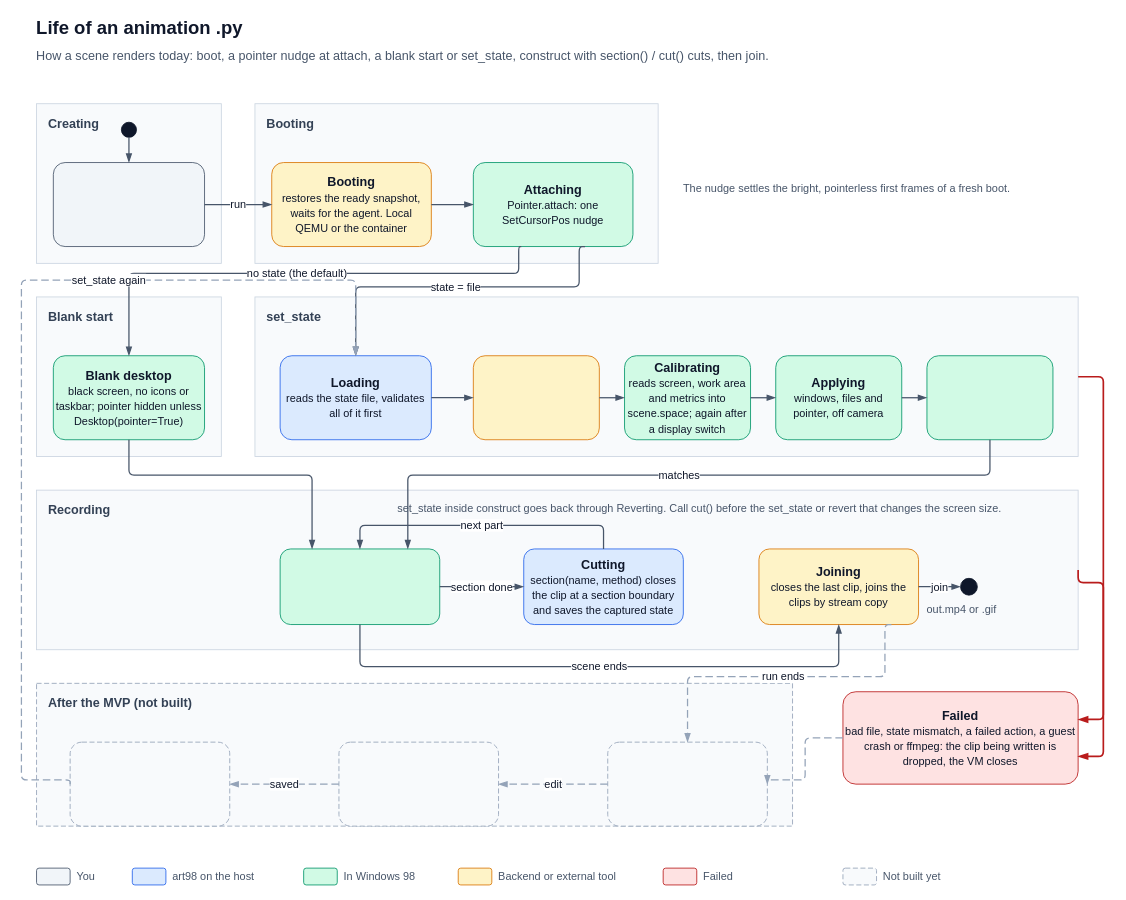
Image size: 1126x900. Some labels were removed from this diagram. The shapes that lost their labels are listed below. From the top down, each one's centre as x and y in pixels, then its label:
At (x=128, y=204): "Writing scene.py, and a state .json if it starts from one".
At (x=535, y=397): "Reverting loadvm ready, back to the baseline".
At (x=989, y=397): "Checking reads the desktop back; a mismatch fails".
At (x=359, y=586): "Constructing setup, then construct(): play, pause, wait, live write frames".
At (x=149, y=783): "Restarting drops the unfinished clip, keeps finished ones".
At (x=418, y=783): "Editing change the .py or the JSON".
At (x=687, y=783): "Holding desktop left as it ended, Python prompt open".
